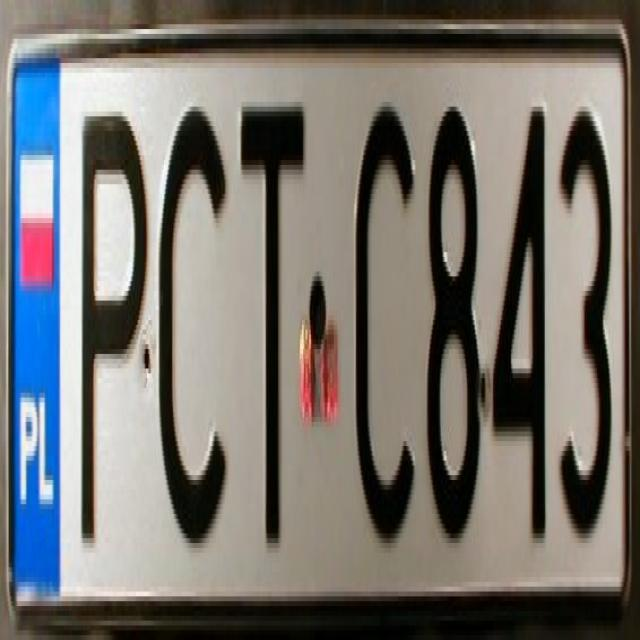pl_license_plate: (9, 44, 632, 596)
